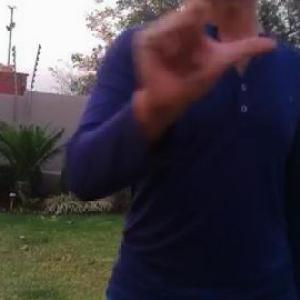land_hand: (112, 0, 276, 119)
